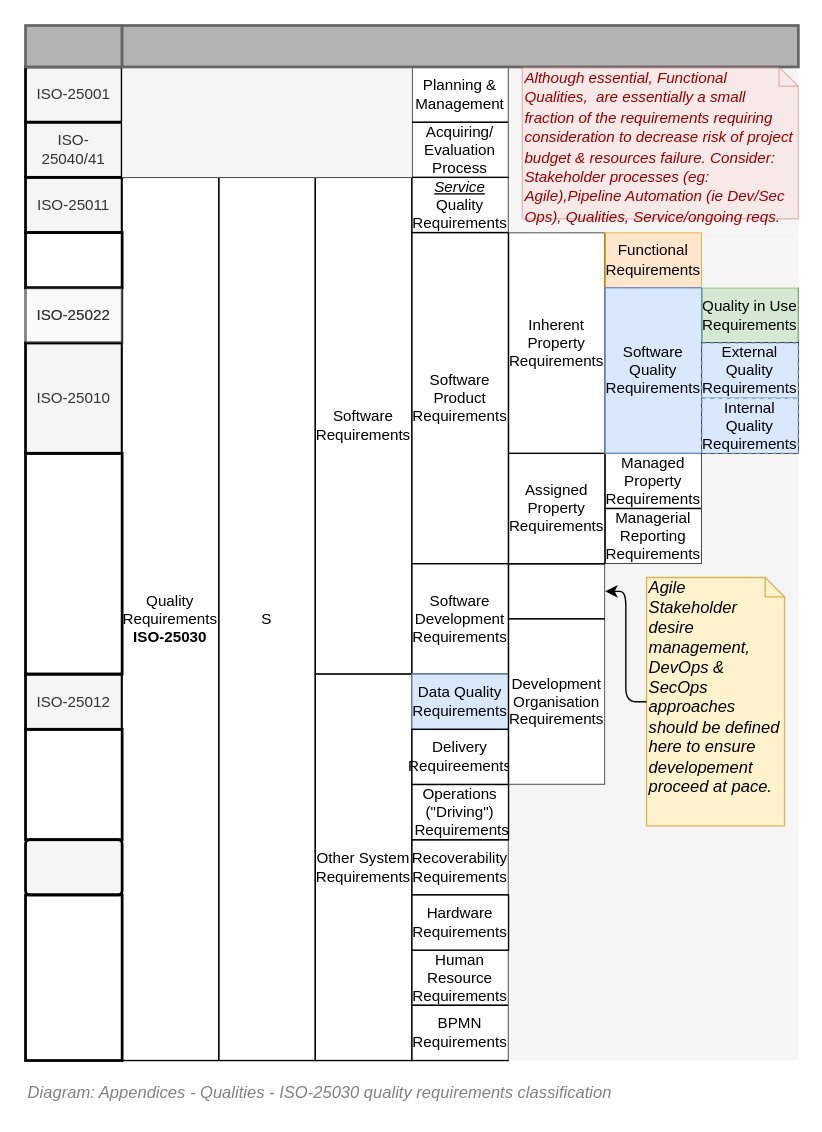
Image size: 822x1132. Some labels were removed from this diagram. The shapes that lost their labels are listed below. From the top down, each one's centre as x and y in pixels, then its label:
At [73,45]: "ISO to use".
At [459,45]: "Requirements Categorization".
At [556,590]: "Development Process Requirements".
At [73,867]: "ISO-25045".
